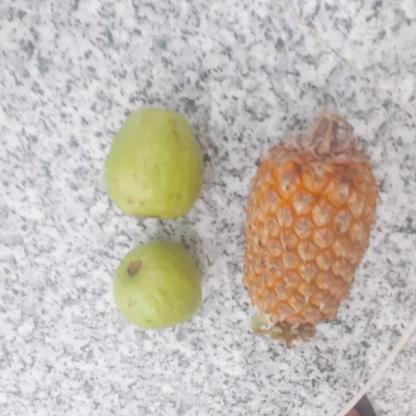guava: (98, 109, 206, 215), (108, 239, 200, 330)
pineapple: (241, 144, 375, 334)
